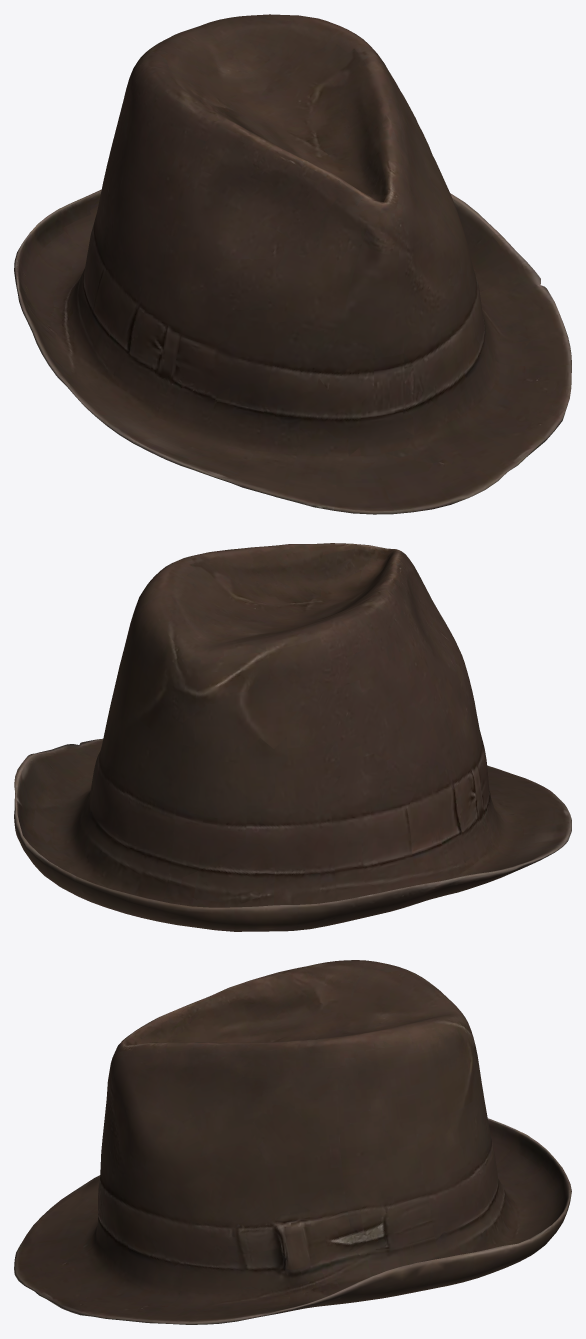
File: classic_fedora.glb
3 renders of one model, top to bottom at view 1: azimuth 30°, elevation 25°; view 2: azimuth 150°, elevation 25°; view 3: azimuth 270°, elevation 25°, orthographic. The views are drawn at different scales.
Visible parts, largest first — view 1: file1_0; view 2: file1_0; view 3: file1_0.
Part boxes in pixels (x1=…): file1_0: x1=14, y1=14, x2=571, y2=514; file1_0: x1=14, y1=543, x2=571, y2=931; file1_0: x1=14, y1=960, x2=571, y2=1324.
Size of the model in its own units: 1.68 by 1.07 by 1.99.
Materials: 1 (1 with a texture image).
